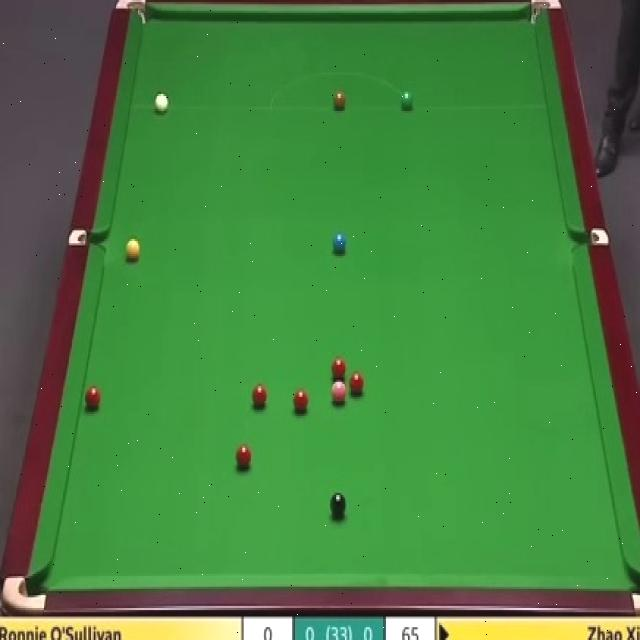black-ball: (329, 491, 346, 516)
blue-ball: (333, 232, 347, 250)
brown-ball: (333, 87, 345, 109)
green-ball: (400, 92, 414, 110)
pink-ball: (331, 381, 347, 407)
red-ball: (251, 382, 270, 408), (234, 446, 253, 470), (84, 386, 100, 413), (292, 387, 309, 412), (331, 357, 348, 381), (348, 372, 364, 397)
white-ball: (154, 93, 168, 113)
yellow-ball: (126, 239, 140, 263)
